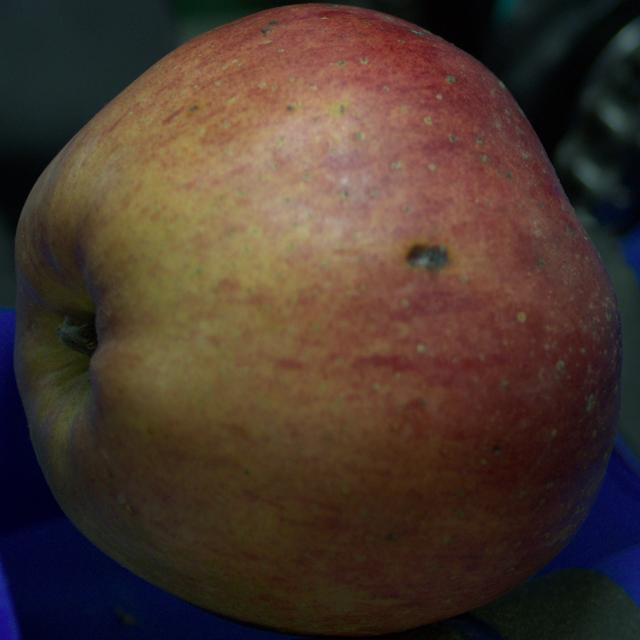apple: (14, 4, 621, 635)
pest: (405, 245, 449, 270)
